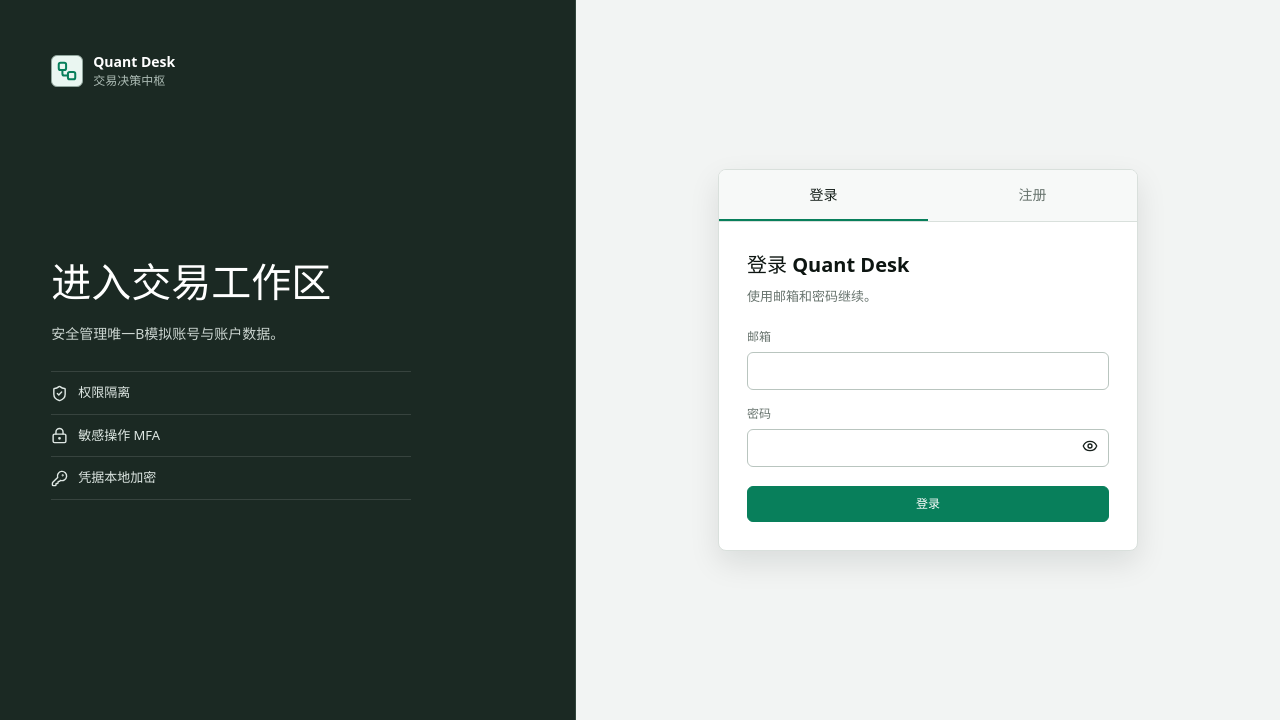
AuthPage › explains when production registration is already closed
This screenshot has width=1280, height=720.
Click the tab "注册".
click(1032, 195)  # box [928, 170, 1137, 221]
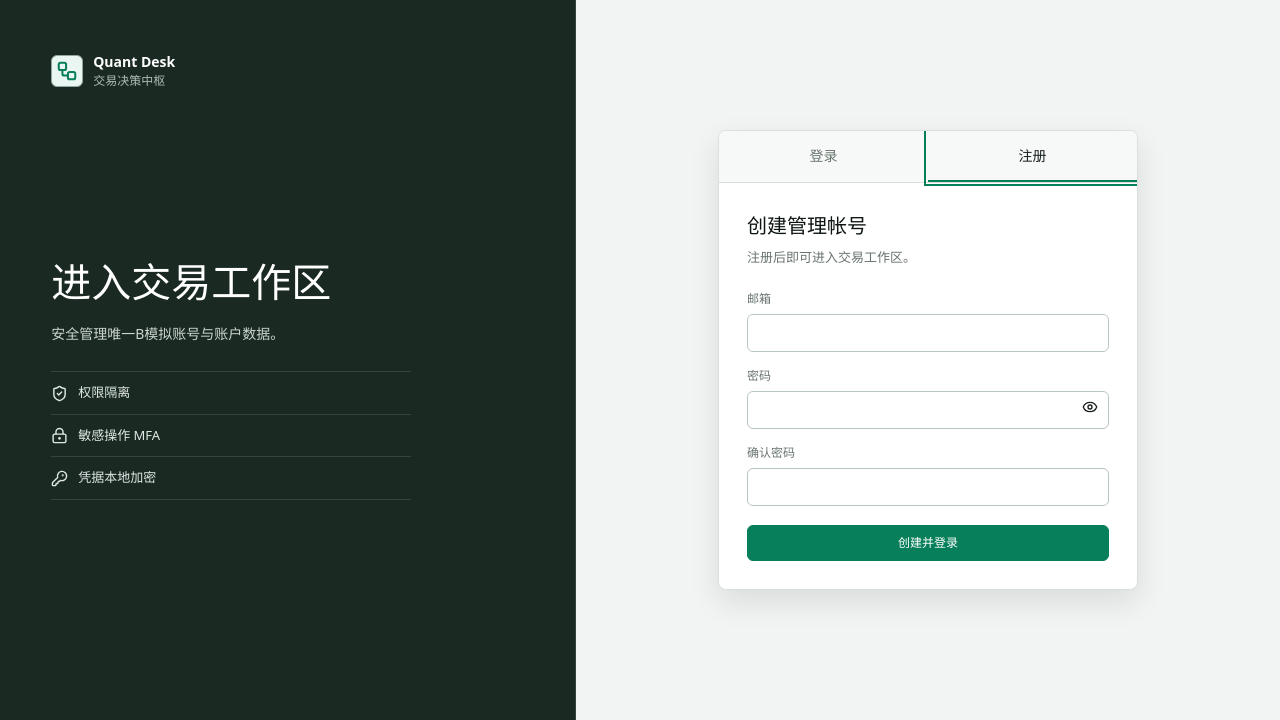
Type "second@example.com" into the field labelled "邮箱".
click(928, 333); type("second@example.com")  # box [747, 314, 1109, 352]
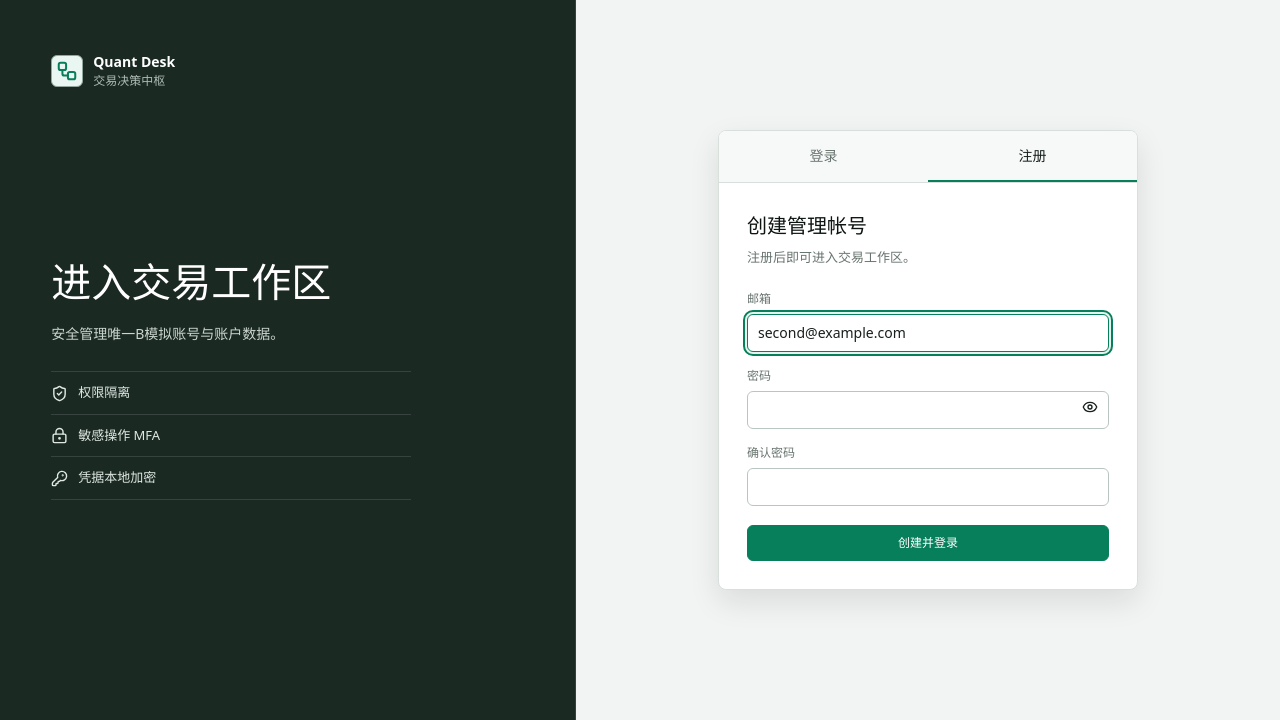
Type "strong-password" into the password field labelled "密码".
click(928, 410); type("strong-password")  # box [747, 391, 1109, 429]
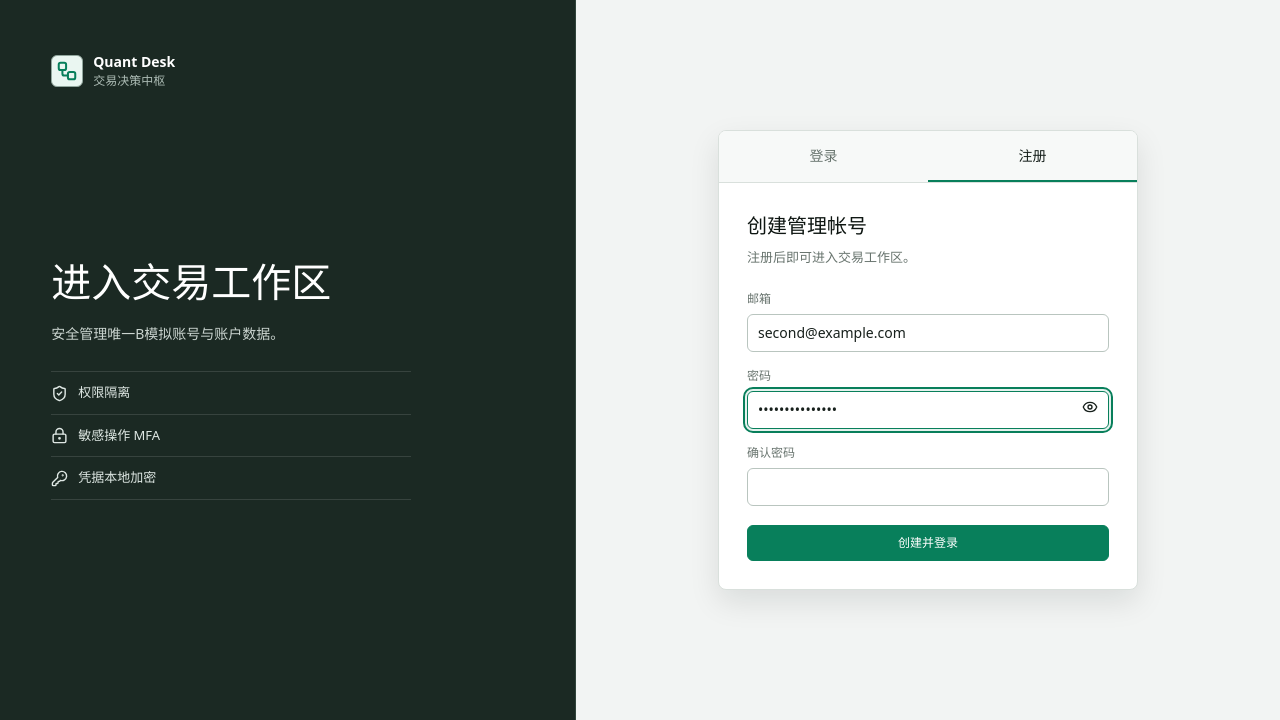
Type "strong-password" into the password field labelled "确认密码".
click(928, 487); type("strong-password")  # box [747, 468, 1109, 506]
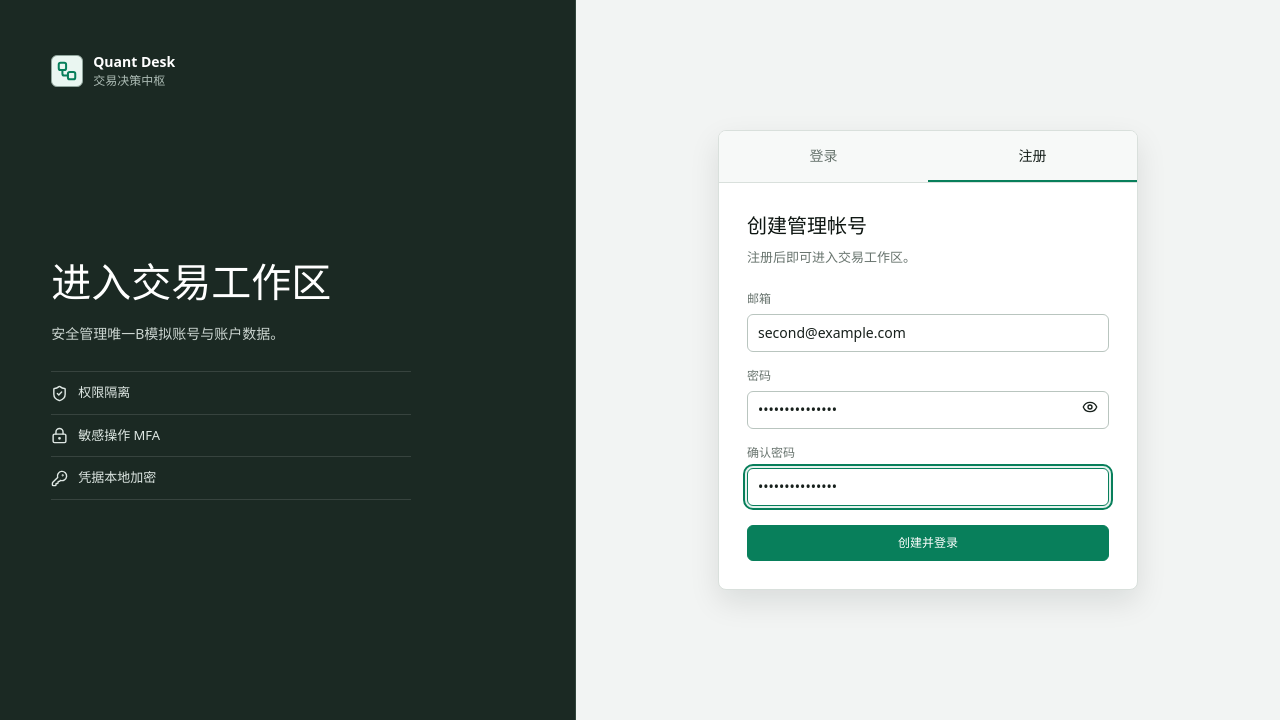
Click the button "创建并登录".
click(928, 543)  # box [747, 525, 1109, 561]
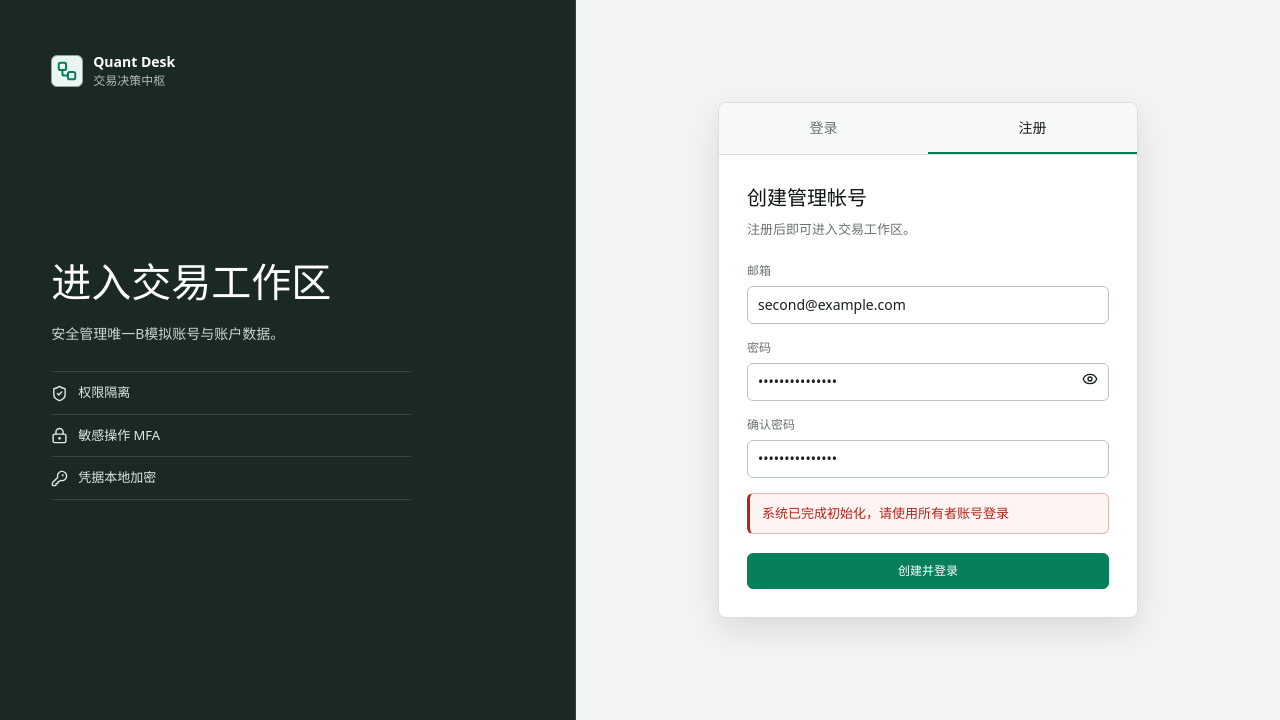
Result: the message reads "系统已完成初始化，请使用所有者账号登录" at [762, 504, 1009, 522]
